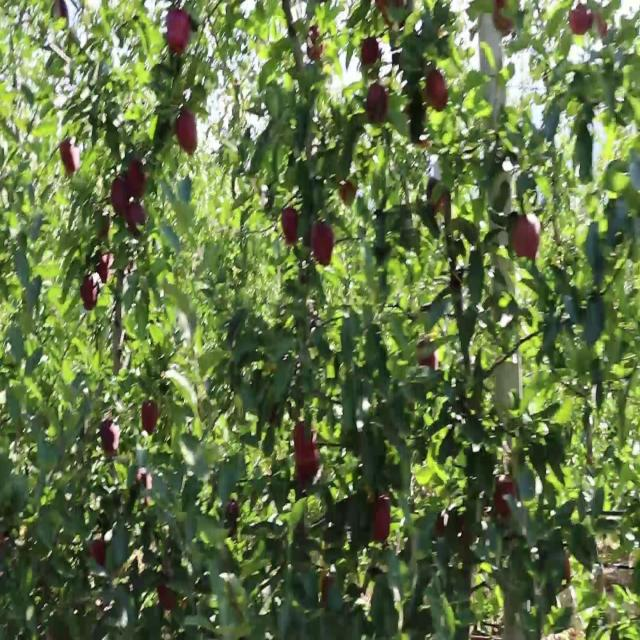apple: (512, 213, 541, 263), (296, 426, 320, 482), (312, 220, 336, 268), (168, 14, 192, 57), (296, 440, 320, 482), (176, 113, 199, 156), (372, 497, 392, 546), (496, 476, 519, 517), (368, 85, 391, 126), (428, 71, 449, 114), (492, 0, 516, 37), (376, 0, 405, 30), (360, 35, 382, 69), (128, 163, 148, 199), (112, 177, 130, 217), (296, 426, 317, 460), (296, 455, 320, 484), (568, 7, 591, 37), (60, 142, 79, 178), (428, 184, 450, 215), (284, 206, 300, 247), (308, 28, 325, 64), (592, 7, 609, 41), (104, 419, 120, 455), (84, 277, 100, 313), (128, 206, 147, 236), (340, 177, 357, 208), (420, 341, 438, 370), (144, 405, 160, 436), (160, 583, 177, 612), (92, 540, 108, 569), (100, 255, 113, 284), (136, 469, 152, 491), (324, 575, 333, 606), (564, 554, 572, 585)
